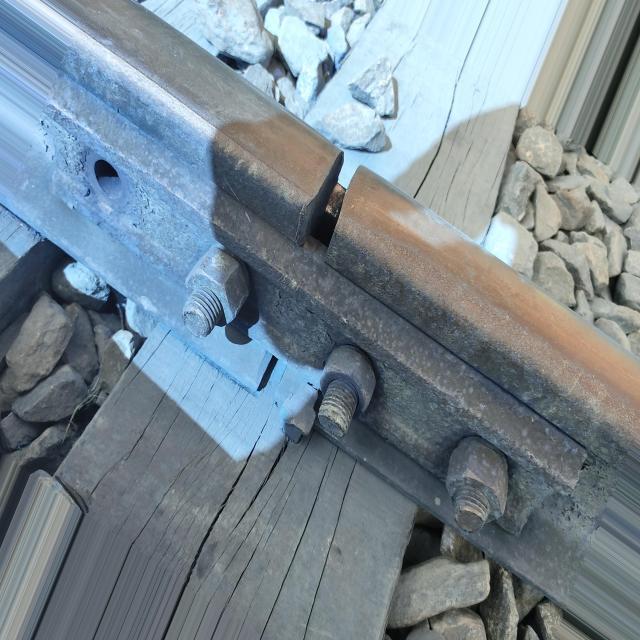Defective Joint: (39, 78, 592, 544)
